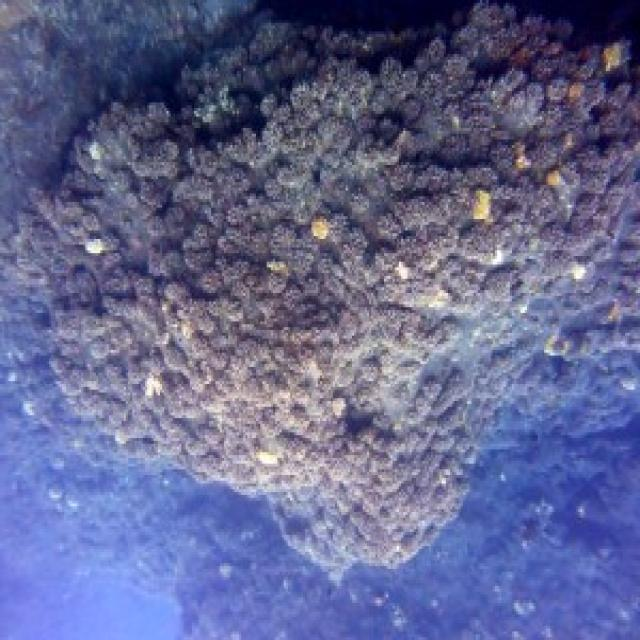Bleached: (566, 260, 589, 284)
Healthy: (1, 1, 638, 568)
